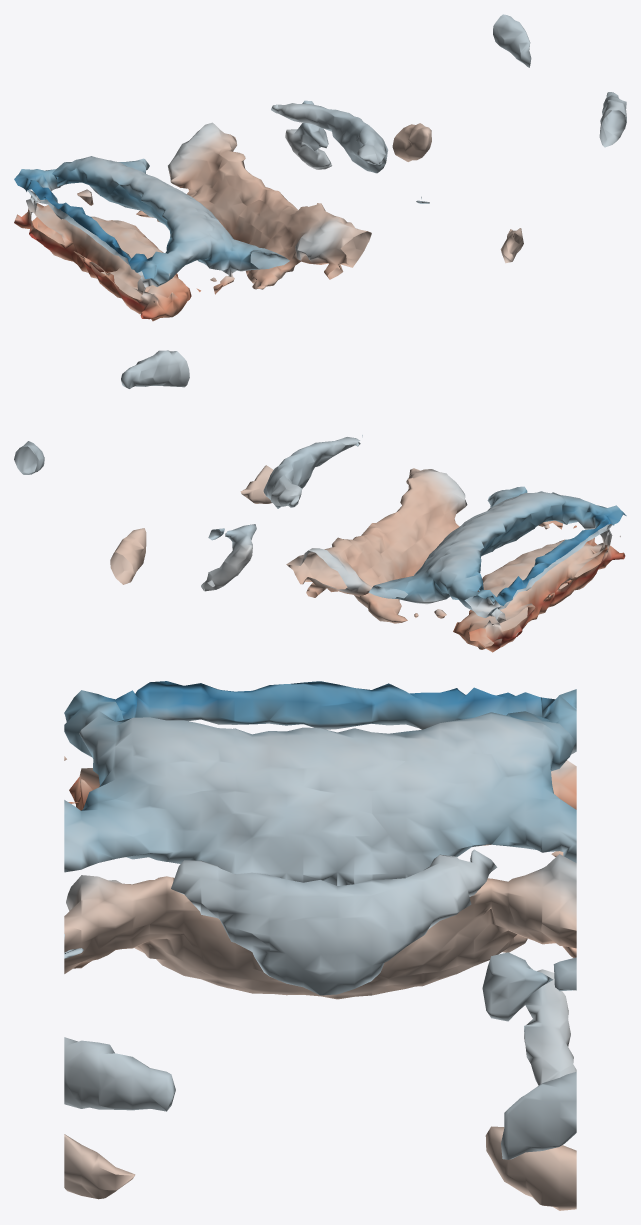
3 views of the same model, one above another, from view 1: azimuth 30°, elevation 25°; view 2: azimuth 150°, elevation 25°; view 3: azimuth 270°, elevation 25° (orthographic). The views are drawn at different scales.
Bounding box in the file's own units: 5.5 × 1.38 × 2.5.
